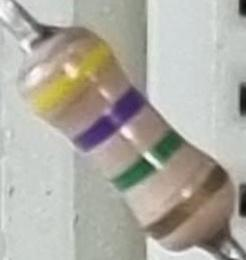Blue: (71, 84, 149, 156)
Green: (109, 127, 186, 196)
Side-Silver: (142, 161, 233, 245)
Yellow: (29, 40, 117, 119)
